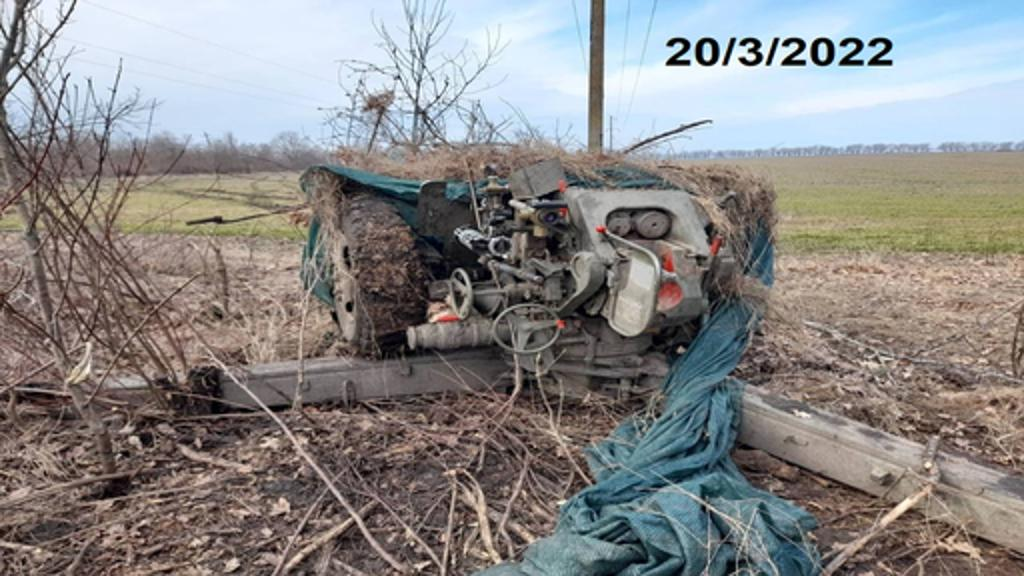ART: (298, 140, 772, 392)
